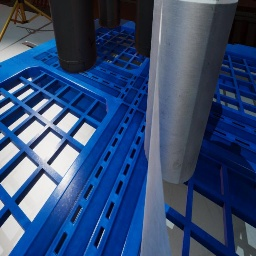0: (144, 0, 238, 184), (140, 2, 172, 256)
NitrogenTank ,: (48, 0, 97, 73), (135, 0, 154, 58), (98, 0, 121, 28)
